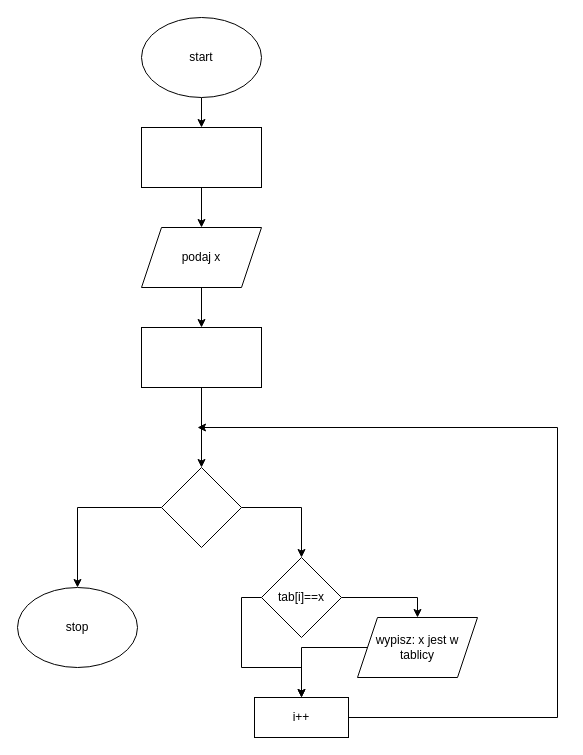
Image size: 583x755. Some labels were removed from this diagram. Here are the shapes that lost their labels. From the top down, the centre of each, then its label:
the point at 201,157: int tab[5]={}
the point at 201,357: i=0
the point at 201,507: i<5
